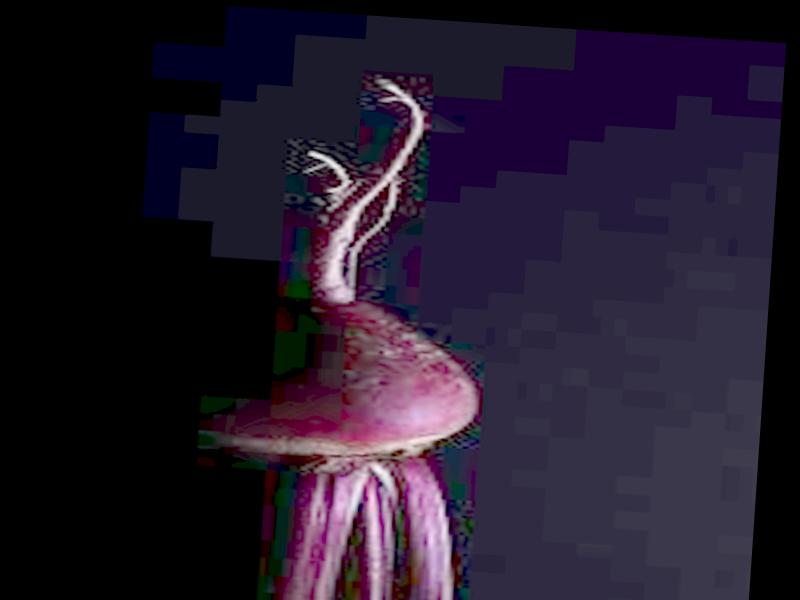Beet: (187, 68, 515, 600)
